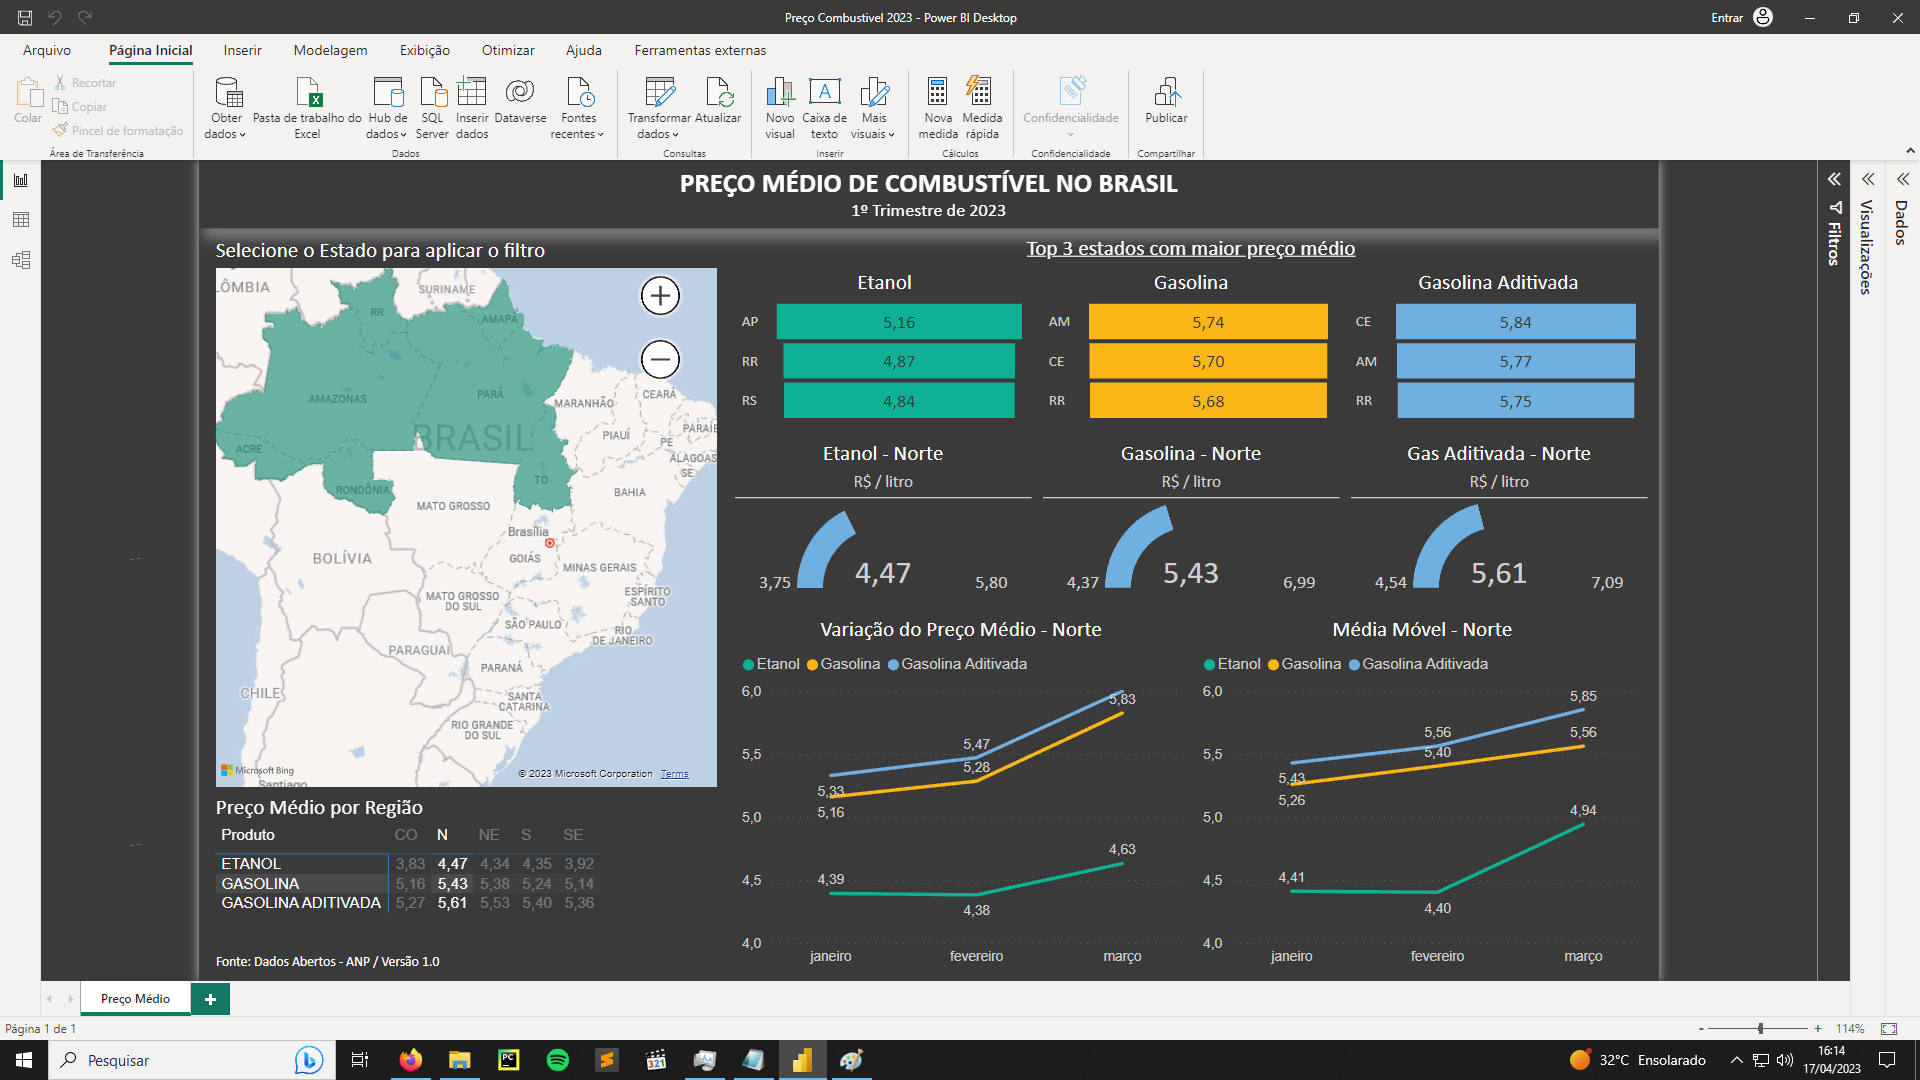

What the dashboard file says about the page in this screenshot:
{"tool":"powerbi","page":{"name":"Preço Médio","canvas":[1280,720],"ordinal":0},"visuals":[{"type":"lineChart","fields":{"Category":["preco_tratado.Data_Coleta.Variation.Hierarquia de datas.Mês","preco_tratado.Data_Coleta.Variation.Hierarquia de datas.Dia"],"Y":["Medidas.MediaNacEtanol","Medidas.MediaNacGasComum","Medidas.MediaNacGasAdit"]},"box":[470.9,395,395,320],"z":0},{"type":"lineChart","fields":{"Y":["Medidas.Média móvel de MediaNacEtanol","Medidas.Média móvel de MediaNacGasComum","Medidas.Média móvel de MediaNacGasAdit"],"Category":["preco_tratado.Data_Coleta.Variation.Hierarquia de datas.Mês","preco_tratado.Data_Coleta.Variation.Hierarquia de datas.Dia"]},"box":[874.9,395,395.1,320],"z":1000},{"type":"filledMap","title":"Selecione o Estado para aplicar o filtro","fields":{"Category":["preco_tratado.Estado"]},"box":[10,65,450,490],"z":2000},{"type":"pivotTable","fields":{"Rows":["preco_tratado.Produto"],"Columns":["preco_tratado.Regiao"],"Values":["Medidas.MediaValorVenda"]},"box":[10,554.7,450,123.7],"z":3000},{"type":"funnel","title":"Gasolina ","fields":{"Category":["TOPMediaGas.Estado"],"Y":["Avg(TOPMediaGas.GAS)"]},"box":[740.2,95,260,140.1],"z":4000},{"type":"textbox","box":[0,0,1280,60],"z":5000},{"type":"funnel","title":"Gasolina Aditivada","fields":{"Category":["TOPMediaGasAdit.Estado"],"Y":["Avg(TOPMediaGasAdit.GAS_ADIT)"]},"box":[1009.6,95,260.7,140.1],"z":6000},{"type":"funnel","title":"Etanol","fields":{"Category":["TOPMediaEtanol.Estado"],"Y":["Avg(TOPMediaEtanol.ETANOL)"]},"box":[470.8,95,260.7,140.1],"z":7000},{"type":"textbox","title":"Top 3 estados com maior preço médio","box":[470.2,65,800.1,30],"z":8000},{"type":"textbox","box":[10,690,225.5,25.9],"z":9000},{"type":"textbox","box":[470,245.1,260,52],"z":10000},{"type":"gauge","fields":{"Y":["Medidas.MediaNacEtanol"],"MinValue":["Medidas.MinMediaNacEtanol"],"MaxValue":["Medidas.MaxMediaNacEtanol"]},"box":[470,297.6,259.7,87.5],"z":11000},{"type":"textbox","box":[740,245,260,52],"z":12000},{"type":"gauge","fields":{"Y":["Medidas.MediaNacGasComum"],"MinValue":["Medidas.MinMediaNacGas"],"MaxValue":["Medidas.MaxMediaNacGas"]},"box":[740,297,259.7,87.5],"z":13000},{"type":"textbox","box":[1010.7,245,260,52],"z":14000},{"type":"gauge","fields":{"Y":["Medidas.MediaNacGasAdit"],"MinValue":["Medidas.MinMediaNacGasAdt"],"MaxValue":["Medidas.MaxMediaNacGasAdt"]},"box":[1010.7,297,259.7,87.5],"z":15000}]}

Visuals, with their boxes on the page's 1280x720 design canvas (x1, y1, x2, y2). These are canvas units, not pixel positions in the 1920x1080 screenshot, which may show the page scaled, cropped or inside an application window:
lineChart - preco_tratado.Data_Coleta.Variation.Hierarquia de datas.Mês x preco_tratado.Data_Coleta.Variation.Hierarquia de datas.Dia: {"x1": 471, "y1": 395, "x2": 866, "y2": 715}
lineChart - Medidas.Média móvel de MediaNacEtanol x Medidas.Média móvel de MediaNacGasComum: {"x1": 875, "y1": 395, "x2": 1270, "y2": 715}
"Selecione o Estado para aplicar o filtro" filledMap: {"x1": 10, "y1": 65, "x2": 460, "y2": 555}
pivotTable - preco_tratado.Produto x preco_tratado.Regiao: {"x1": 10, "y1": 555, "x2": 460, "y2": 678}
"Gasolina " funnel: {"x1": 740, "y1": 95, "x2": 1000, "y2": 235}
textbox: {"x1": 0, "y1": 0, "x2": 1280, "y2": 60}
"Gasolina Aditivada" funnel: {"x1": 1010, "y1": 95, "x2": 1270, "y2": 235}
"Etanol" funnel: {"x1": 471, "y1": 95, "x2": 732, "y2": 235}
"Top 3 estados com maior preço médio" textbox: {"x1": 470, "y1": 65, "x2": 1270, "y2": 95}
textbox: {"x1": 10, "y1": 690, "x2": 236, "y2": 716}
textbox: {"x1": 470, "y1": 245, "x2": 730, "y2": 297}
gauge - Medidas.MediaNacEtanol x Medidas.MinMediaNacEtanol: {"x1": 470, "y1": 298, "x2": 730, "y2": 385}
textbox: {"x1": 740, "y1": 245, "x2": 1000, "y2": 297}
gauge - Medidas.MediaNacGasComum x Medidas.MinMediaNacGas: {"x1": 740, "y1": 297, "x2": 1000, "y2": 384}
textbox: {"x1": 1011, "y1": 245, "x2": 1271, "y2": 297}
gauge - Medidas.MediaNacGasAdit x Medidas.MinMediaNacGasAdt: {"x1": 1011, "y1": 297, "x2": 1270, "y2": 384}
